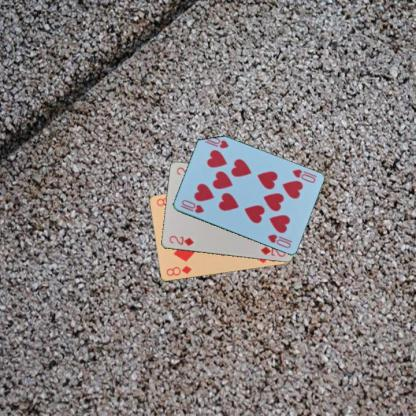10h: (289, 166, 316, 184), (177, 197, 205, 214)
2d: (166, 233, 195, 248)
8d: (163, 263, 193, 277)
